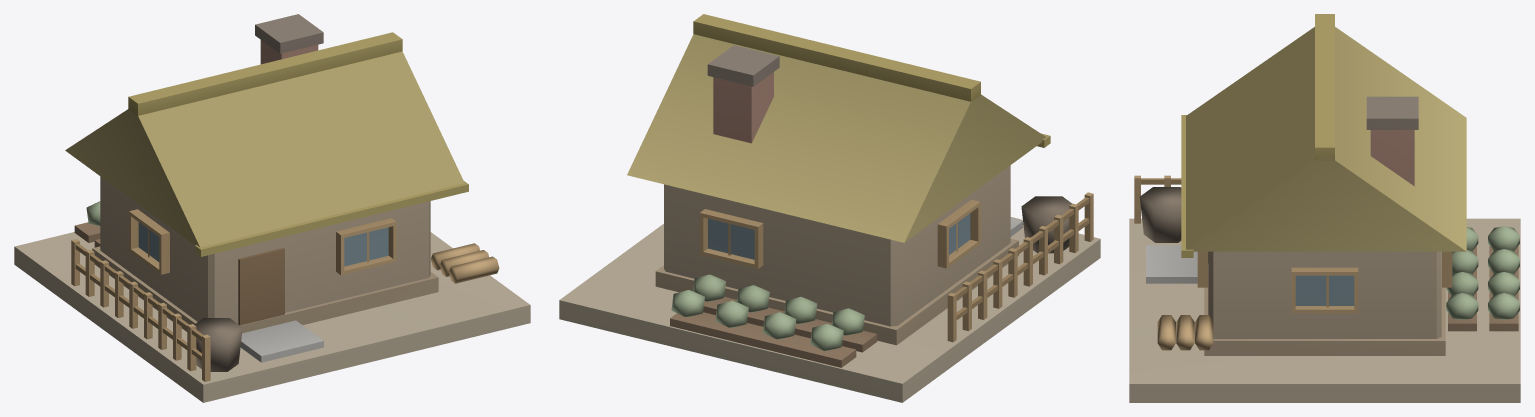
File: hut.glb
3 views of the same model, side by side, from view 1: azimuth 30°, elevation 25°; view 2: azimuth 150°, elevation 25°; view 3: azimuth 270°, elevation 25° (orthographic). The views are drawn at different scales.
Visible parts, largest first — view 1: hut; view 2: hut; view 3: hut.
Part boxes in pixels (x1=…): hut: x1=14, y1=14, x2=530, y2=402; hut: x1=559, y1=14, x2=1100, y2=402; hut: x1=1129, y1=14, x2=1520, y2=402.
Size of the model in its own units: 0.94 by 0.63 by 0.94.
